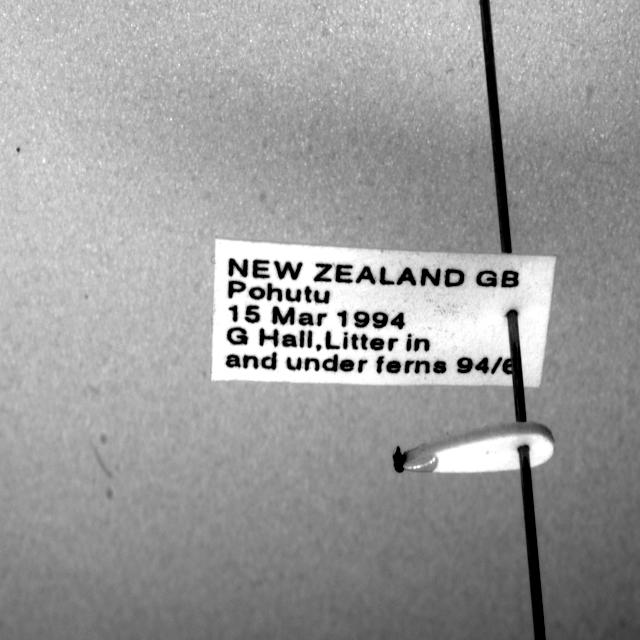typed_label: (211, 238, 556, 388)
